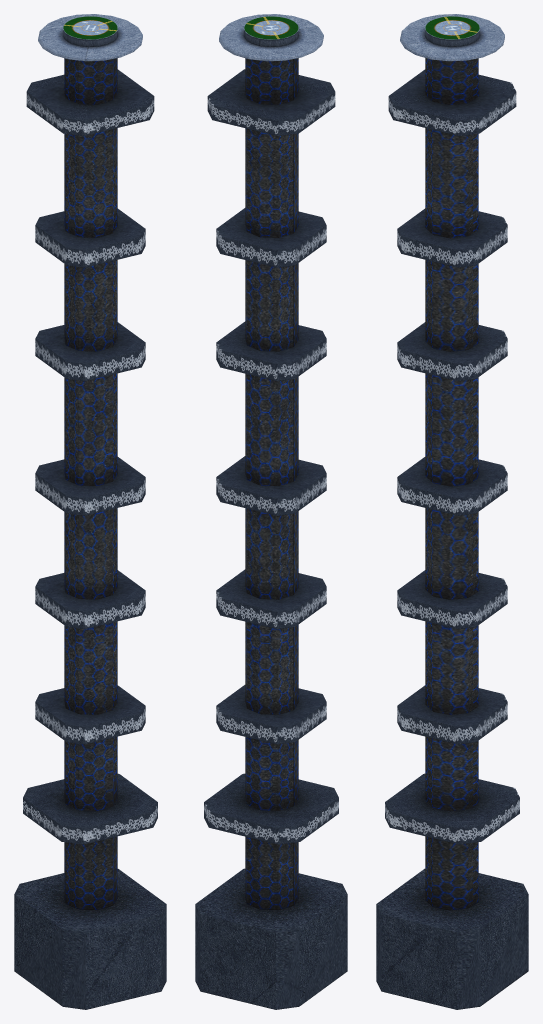
The picture shows the model from 3 angles, left to right: view 1: azimuth 30°, elevation 25°; view 2: azimuth 150°, elevation 25°; view 3: azimuth 330°, elevation 25°; orthographic projection.
Visible parts, largest first — view 1: 1025; view 2: 1025; view 3: 1025.
Part boxes in pixels (left/top/right/bottom): 1025: left=14, top=14, right=166, bottom=1009; 1025: left=195, top=14, right=347, bottom=1009; 1025: left=376, top=14, right=528, bottom=1009.
Size of the model in its own units: 41.02 by 358 by 45.51.
1 material, 1 textured.
